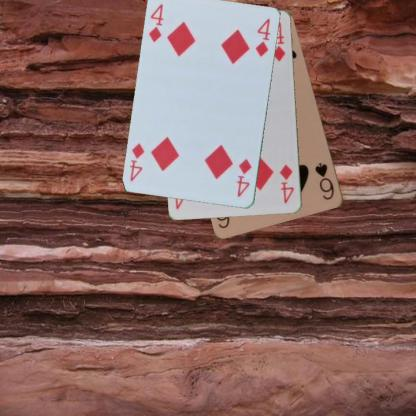4d: (277, 162, 296, 205), (146, 2, 165, 44), (234, 157, 253, 198)
6s: (312, 160, 336, 201)
